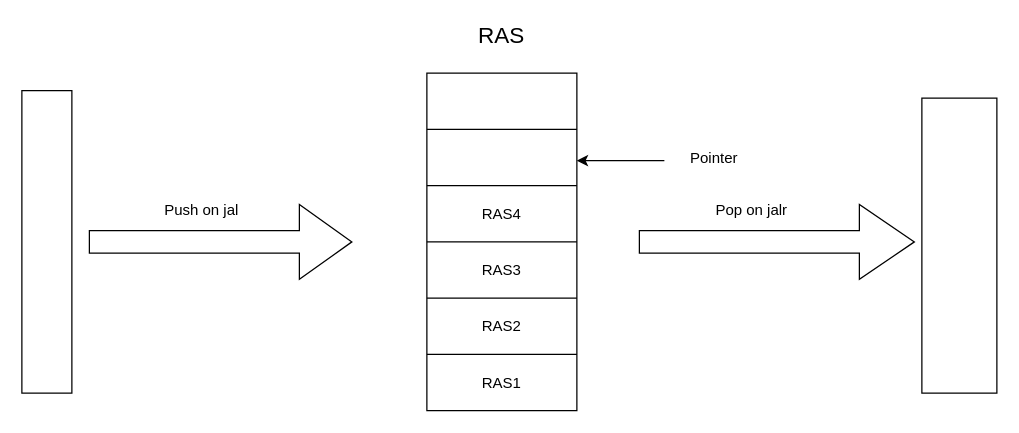
Some shapes in this 1019 by 433 pixel diagram are drawn without their labels. Each missing label, with the centre of its shape:
"PC+4 for jal" belongs at [46,241].
"RAS for location at pointer - 1" belongs at [959,245].
